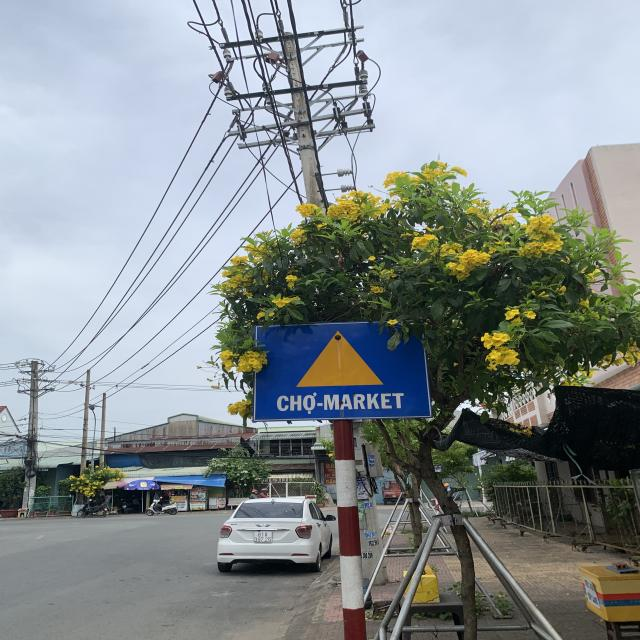Cho_Quay_Xe: (255, 326, 432, 421)
